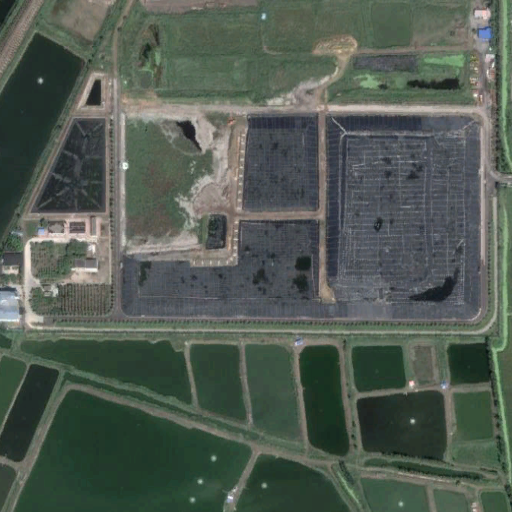lf: (118, 114, 483, 323)
